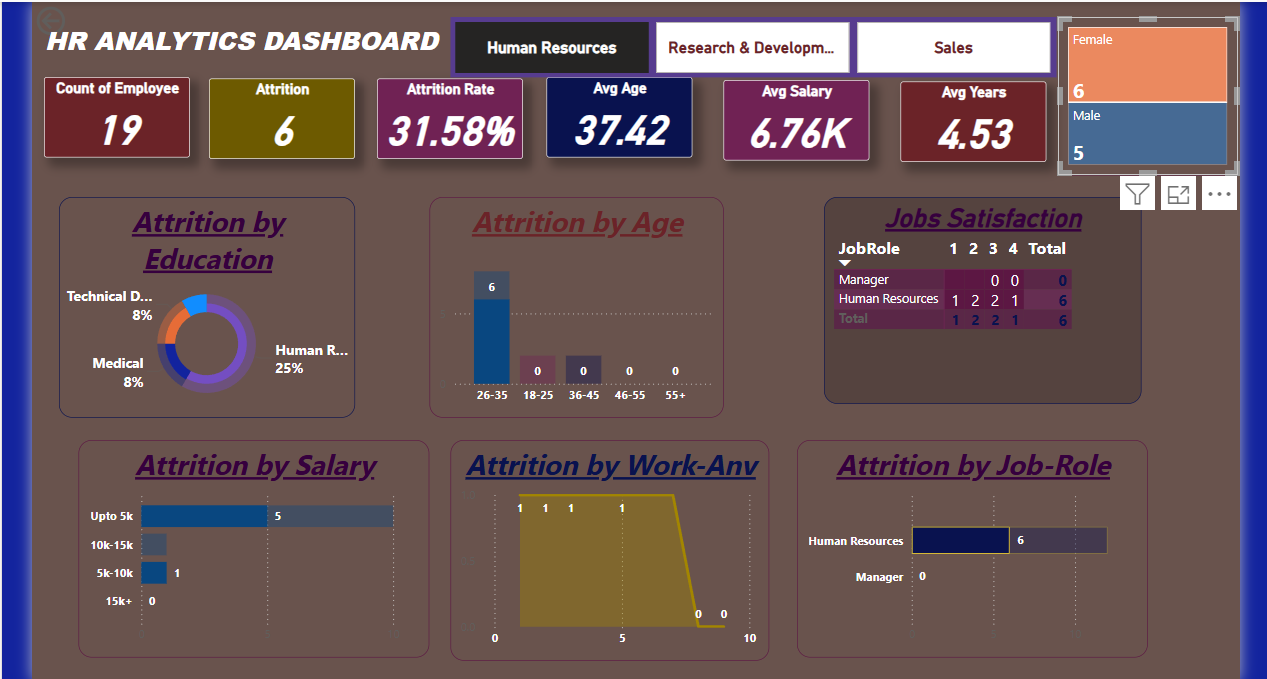

The dashboard page shown, as its layout file describes it:
{"tool":"powerbi","page":{"name":"Page 1","canvas":[1280,720],"ordinal":0},"visuals":[{"type":"card","title":"Count of Employee","fields":{"Values":["CountNonNull(HR_Analytics.EmpID)"]},"box":[13.2,79.4,155,85],"z":0},{"type":"card","title":"Attrition","fields":{"Values":["Sum(HR_Analytics.AttritionCol)"]},"box":[187.1,81.3,155,85],"z":1000},{"type":"card","title":"Attrition Rate","fields":{"Values":["HR_Analytics.AttritionRate"]},"box":[366.6,81.3,155,85],"z":2000},{"type":"card","title":"Avg Age","fields":{"Values":["Avg(HR_Analytics.Age)"]},"box":[546.1,79.4,155,85],"z":3000},{"type":"actionButton","box":[0,0,100,40],"z":4000},{"type":"card","title":"Avg Salary","fields":{"Values":["Avg(HR_Analytics.MonthlyIncome)"]},"box":[733.2,83.2,155,85],"z":5000},{"type":"card","title":"Avg Years","fields":{"Values":["Avg(HR_Analytics.YearsAtCompany)"]},"box":[920.3,85,155,85],"z":6000},{"type":"donutChart","title":"Attrition by Education","fields":{"Category":["HR_Analytics.EducationField"],"Y":["Sum(HR_Analytics.AttritionCol)"]},"box":[28.3,206,313.7,234.3],"z":7000},{"type":"columnChart","title":"Attrition by Age","fields":{"Category":["HR_Analytics.AgeGroup"],"Y":["Sum(HR_Analytics.AttritionCol)"]},"box":[421.4,206,311.8,234.3],"z":8000},{"type":"pivotTable","title":"Jobs Satisfaction","fields":{"Rows":["HR_Analytics.JobRole"],"Columns":["HR_Analytics.JobSatisfaction"],"Values":["Sum(HR_Analytics.AttritionCol)"]},"box":[839.1,206,336.4,219.2],"z":9000},{"type":"barChart","title":"Attrition by Salary","fields":{"Category":["HR_Analytics.SalarySlab"],"Y":["Sum(HR_Analytics.AttritionCol)"]},"box":[49.1,464.9,372.3,230.6],"z":10000},{"type":"barChart","title":"Attrition by Job-Role","fields":{"Category":["HR_Analytics.JobRole"],"Y":["Sum(HR_Analytics.AttritionCol)"]},"box":[810.7,464.9,372.3,230.6],"z":11000},{"type":"areaChart","title":"Attrition by Work-Anv","fields":{"Category":["HR_Analytics.YearsAtCompany"],"Y":["Sum(HR_Analytics.AttritionCol)"]},"box":[444.1,464.9,338.3,234.3],"z":12000},{"type":"treemap","title":"Attrition by Work-Anv","fields":{"Group":["HR_Analytics.Gender"],"Values":["Sum(HR_Analytics.AttritionCol)"]},"box":[1088.5,15.1,190.9,168.2],"z":13000},{"type":"advancedSlicerVisual","fields":{"Values":["HR_Analytics.Department"]},"box":[444.1,15.1,642.5,64.3],"z":14000},{"type":"textbox","box":[0,15.1,444.1,64.3],"z":15000}]}

Visuals, with their boxes on the page's 1280x720 design canvas (x1, y1, x2, y2). These are canvas units, not pixel positions in the 1267x679 screenshot, which may show the page scaled, cropped or inside an application window:
"Count of Employee" card: box(13, 79, 168, 164)
"Attrition" card: box(187, 81, 342, 166)
"Attrition Rate" card: box(367, 81, 522, 166)
"Avg Age" card: box(546, 79, 701, 164)
actionButton: box(0, 0, 100, 40)
"Avg Salary" card: box(733, 83, 888, 168)
"Avg Years" card: box(920, 85, 1075, 170)
"Attrition by Education" donutChart: box(28, 206, 342, 440)
"Attrition by Age" columnChart: box(421, 206, 733, 440)
"Jobs Satisfaction" pivotTable: box(839, 206, 1176, 425)
"Attrition by Salary" barChart: box(49, 465, 421, 696)
"Attrition by Job-Role" barChart: box(811, 465, 1183, 696)
"Attrition by Work-Anv" areaChart: box(444, 465, 782, 699)
"Attrition by Work-Anv" treemap: box(1088, 15, 1279, 183)
advancedSlicerVisual - HR_Analytics.Department: box(444, 15, 1087, 79)
textbox: box(0, 15, 444, 79)
